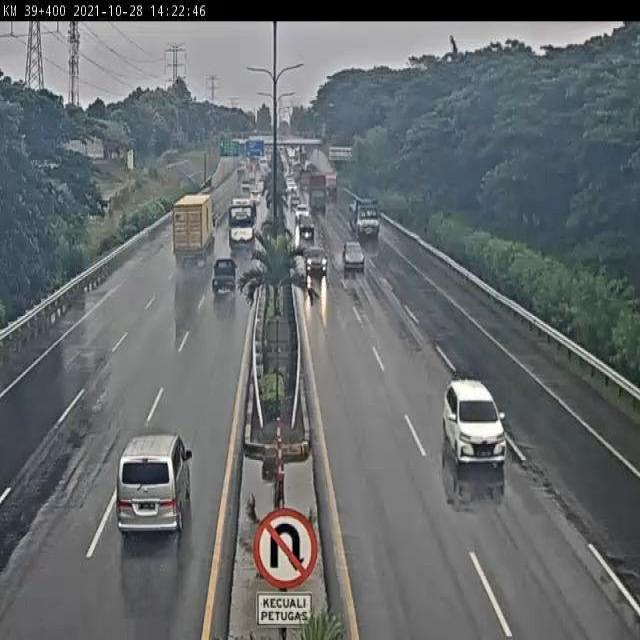bus-l-: (226, 195, 258, 249)
car: (212, 256, 238, 299)
truck-l-: (347, 193, 382, 244)
truck-xl-: (171, 190, 217, 266)
